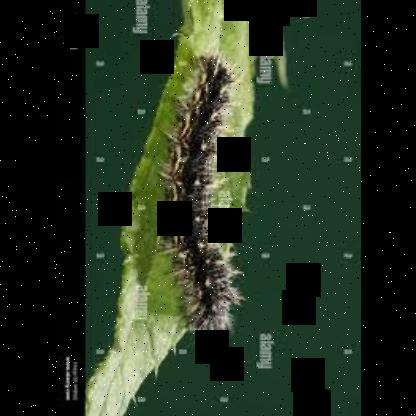oruga: (154, 57, 240, 342)
